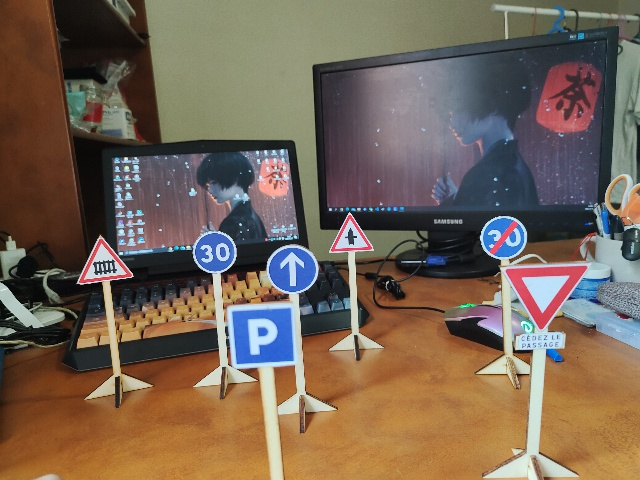P: (227, 303, 299, 368)
ban: (480, 217, 528, 256)
first: (330, 213, 376, 254)
second: (501, 265, 585, 349)
straight: (265, 245, 318, 293)
thirty: (195, 231, 237, 275)
train: (78, 238, 131, 286)
